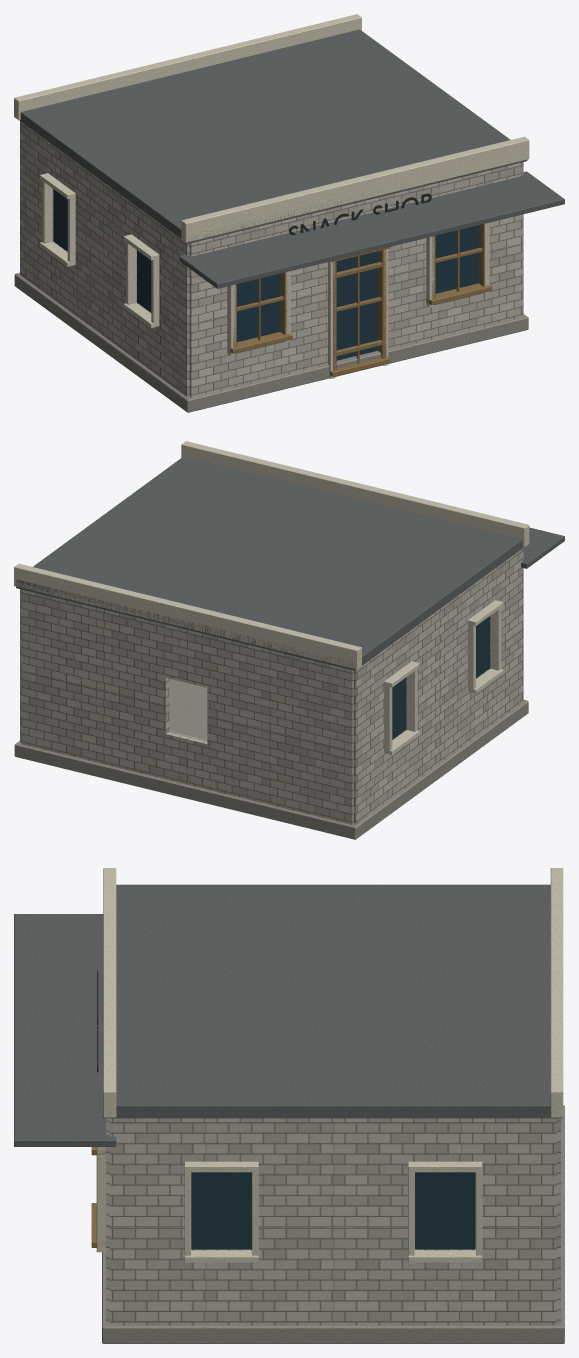
Rendered from SNCKSHP2_lod1.glb.
The picture shows the model from 3 angles, top to bottom: view 1: azimuth 30°, elevation 25°; view 2: azimuth 150°, elevation 25°; view 3: azimuth 270°, elevation 25°; orthographic projection. The views are drawn at different scales.
Visible parts, largest first — view 1: SNCKSHP2_LOD1; view 2: SNCKSHP2_LOD1; view 3: SNCKSHP2_LOD1.
Part boxes in pixels (<box>): SNCKSHP2_LOD1: <box>14,14,564,412</box>; SNCKSHP2_LOD1: <box>14,441,564,839</box>; SNCKSHP2_LOD1: <box>14,868,564,1343</box>.
Bounding box in the file's own units: 8.51 × 4.38 × 8.62.
Materials: 8 (6 with a texture image).
